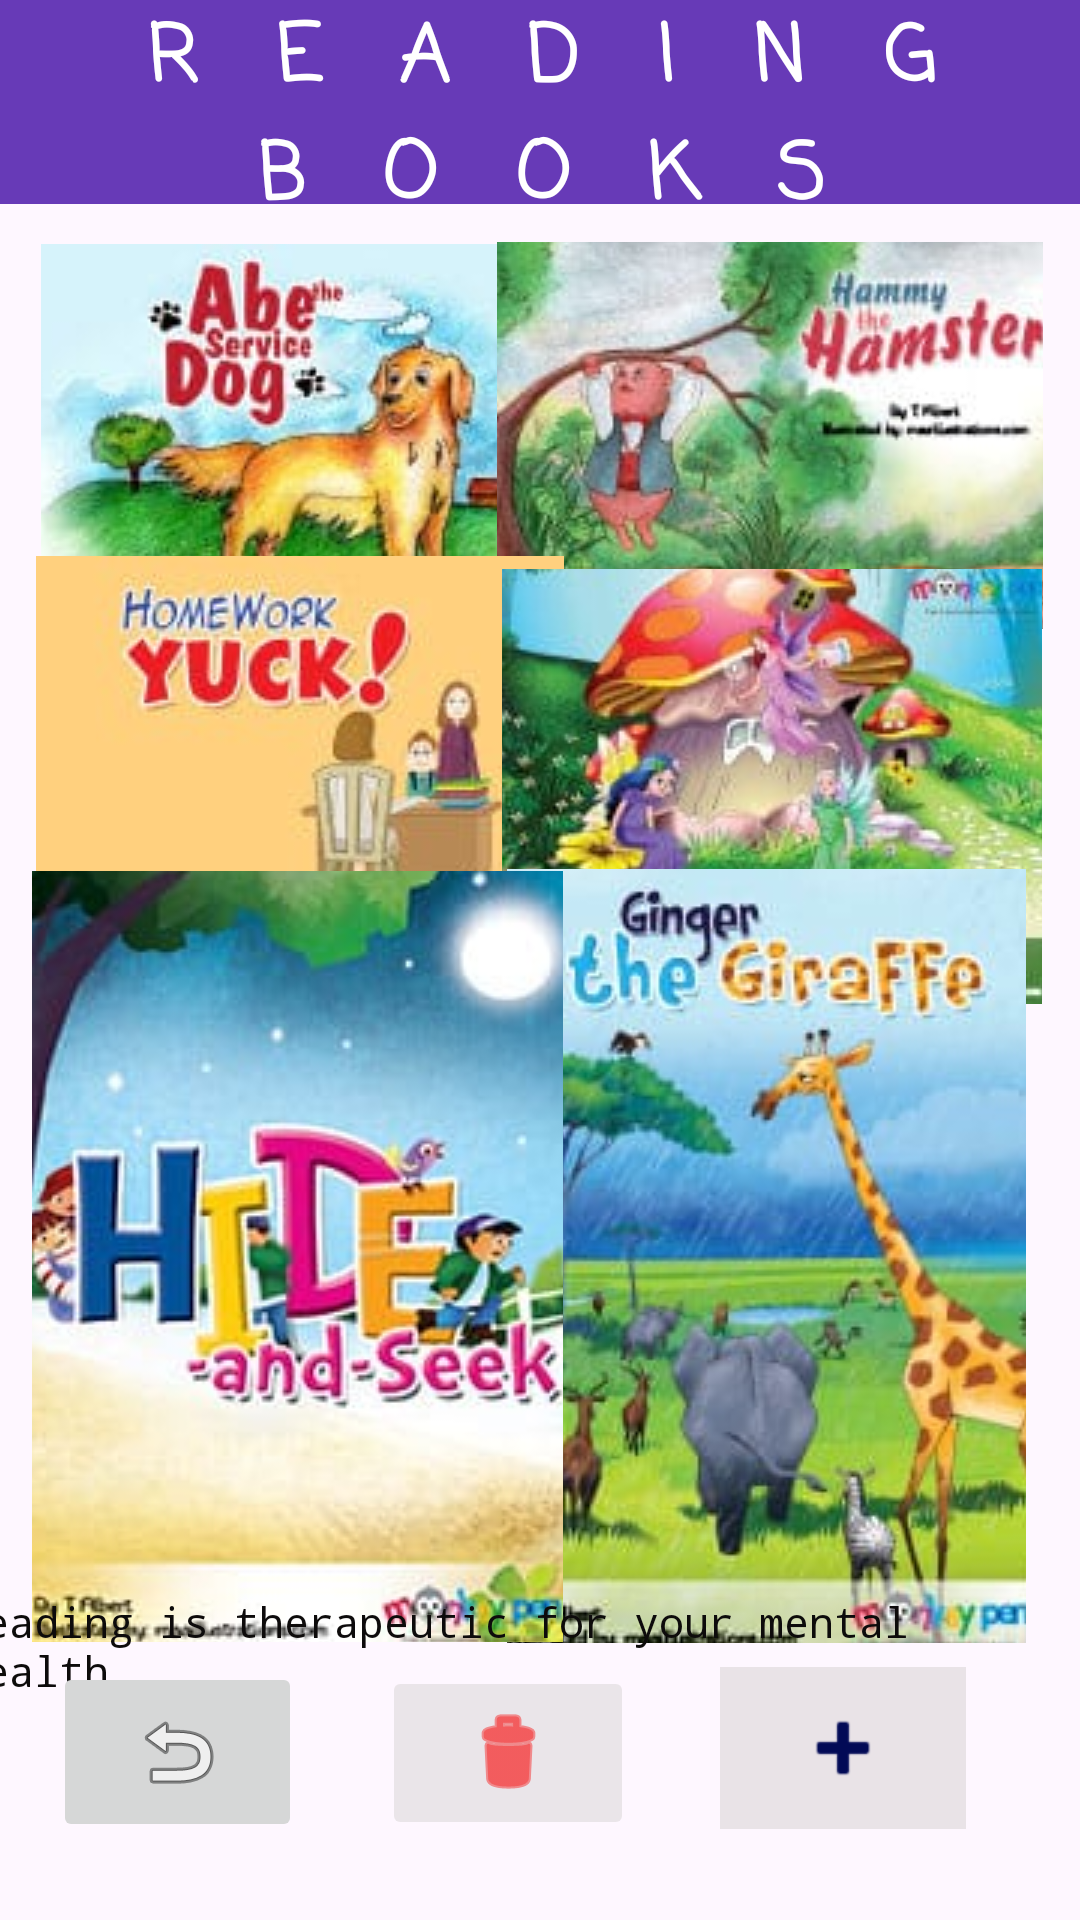

Where icons sit on this 1080×1920 app screen, as box(x1, y1, x2, y2):
add: box(720, 1667, 966, 1829)
delete: box(481, 1714, 536, 1789)
revert: box(53, 1662, 290, 1824)
